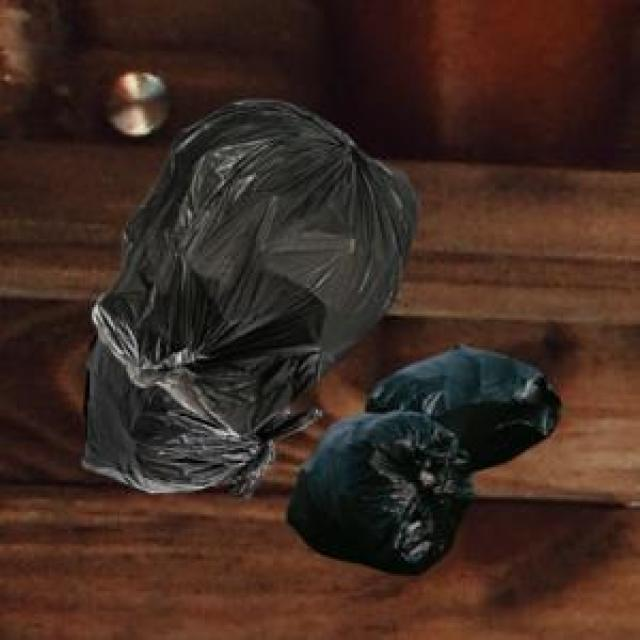miscellaneous trash: (90, 96, 416, 433), (284, 341, 557, 572), (77, 329, 318, 495)
